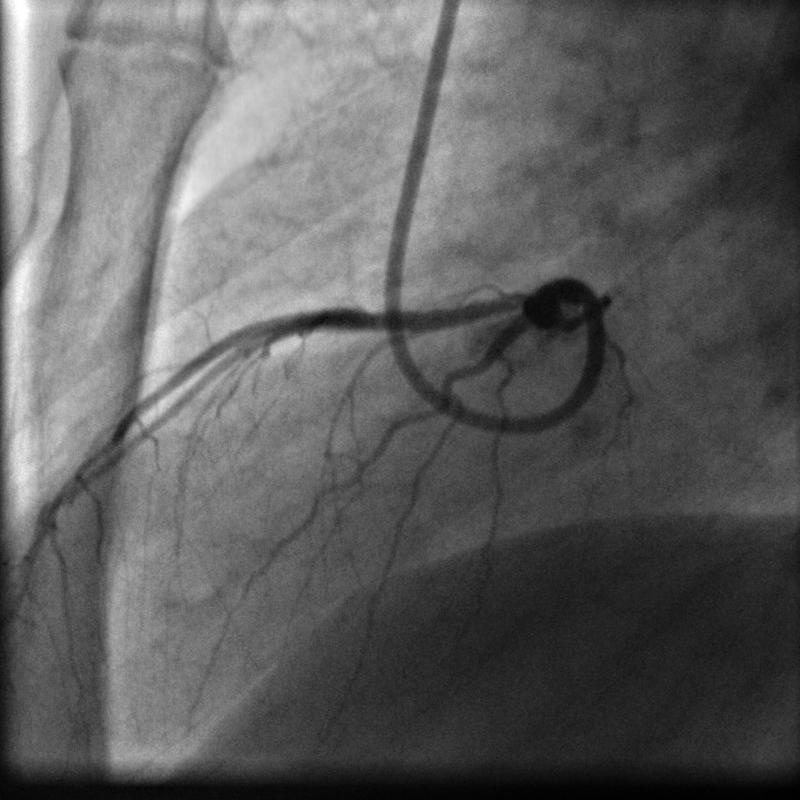Stenosis: (352, 304, 381, 336)
